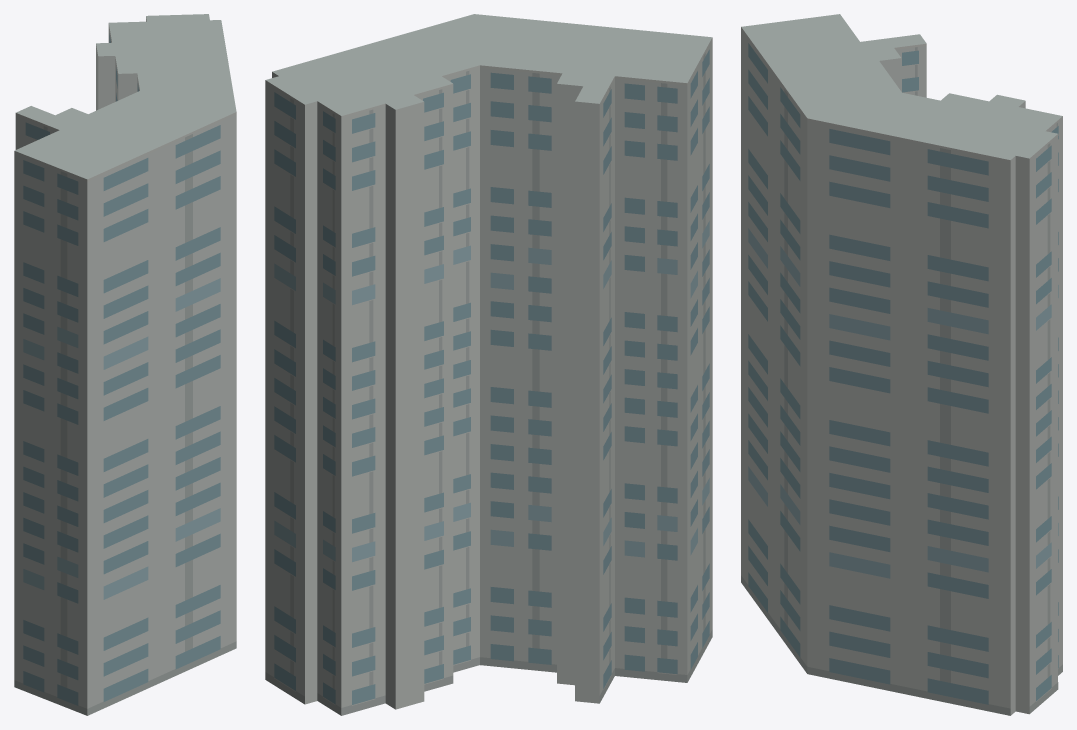
File: residential-7139b499-b4b7-47e3-badc-a419ab725842.glb
3 renders of one model, left to right at view 1: azimuth 30°, elevation 25°; view 2: azimuth 150°, elevation 25°; view 3: azimuth 270°, elevation 25°, orthographic. The views are drawn at different scales.
Visible parts, largest first — view 1: residential-7139b499-b4b7-47e3-badc-a419ab725842.tmp; view 2: residential-7139b499-b4b7-47e3-badc-a419ab725842.tmp; view 3: residential-7139b499-b4b7-47e3-badc-a419ab725842.tmp.
Part boxes in pixels (left/top/right/bottom): residential-7139b499-b4b7-47e3-badc-a419ab725842.tmp: left=14, top=14, right=236, bottom=715; residential-7139b499-b4b7-47e3-badc-a419ab725842.tmp: left=265, top=14, right=712, bottom=715; residential-7139b499-b4b7-47e3-badc-a419ab725842.tmp: left=741, top=14, right=1062, bottom=715.
Bounding box in the file's own units: 34.43 × 61 × 32.02.
